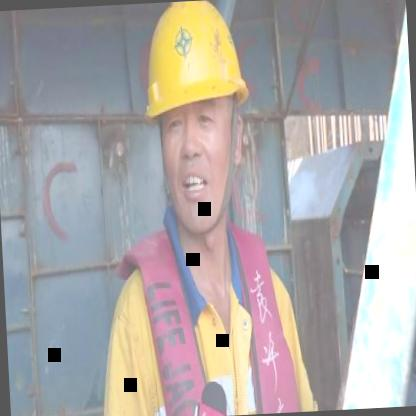helmet: (136, 0, 257, 226)
